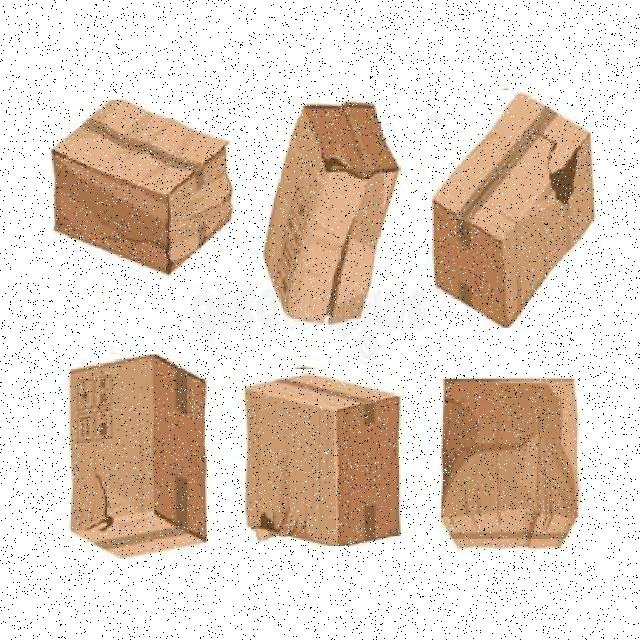defect: (426, 90, 600, 328), (46, 99, 239, 278), (56, 354, 212, 563), (260, 97, 400, 326), (238, 369, 404, 546), (436, 374, 586, 552)
